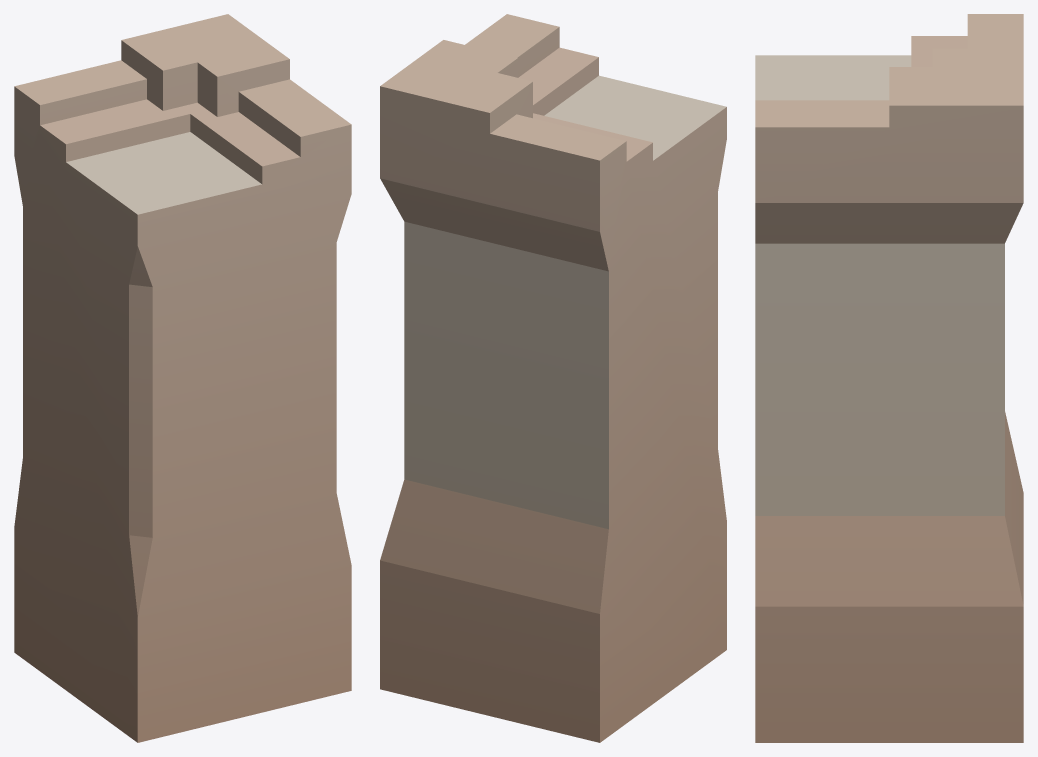
File: wall-narrow-corner.glb
The picture shows the model from 3 angles, left to right: view 1: azimuth 30°, elevation 25°; view 2: azimuth 150°, elevation 25°; view 3: azimuth 270°, elevation 25°; orthographic projection. The views are drawn at different scales.
Visible parts, largest first — view 1: wall-narrow-corner; view 2: wall-narrow-corner; view 3: wall-narrow-corner.
Boxes of the visible parts, x1=… form: wall-narrow-corner: x1=14, y1=14, x2=351, y2=742; wall-narrow-corner: x1=380, y1=14, x2=726, y2=742; wall-narrow-corner: x1=755, y1=14, x2=1023, y2=742.
Size of the model in its own units: 0.5 by 1.31 by 0.5.
